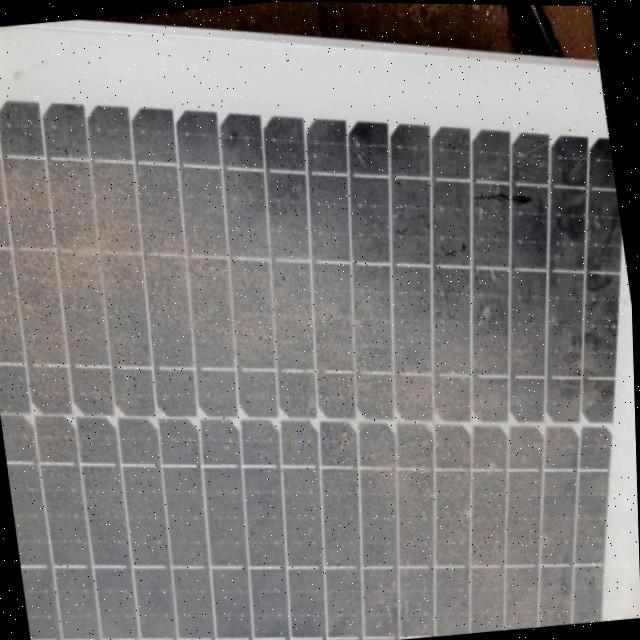Surface Contaminant: (0, 112, 632, 640)
